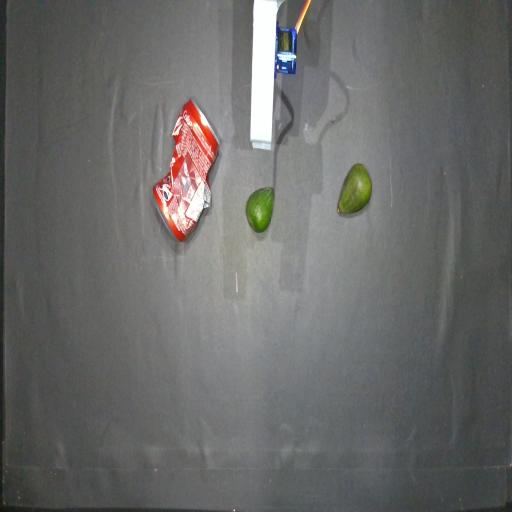higo: (337, 163, 372, 213), (245, 187, 274, 233)
lata_defectuoso: (153, 99, 218, 241)
